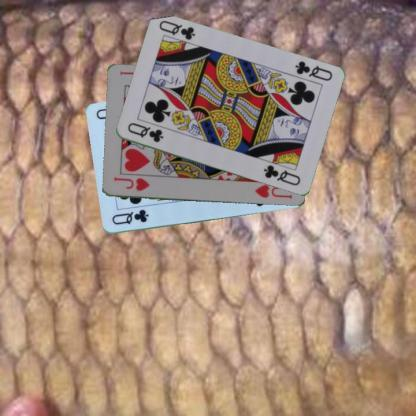Jh: (111, 175, 151, 192)
Qc: (292, 58, 333, 83), (124, 120, 164, 144), (109, 207, 150, 226)
